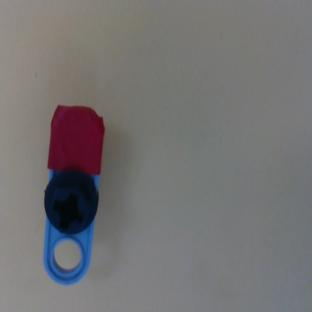part_1_good: (37, 103, 106, 286)
